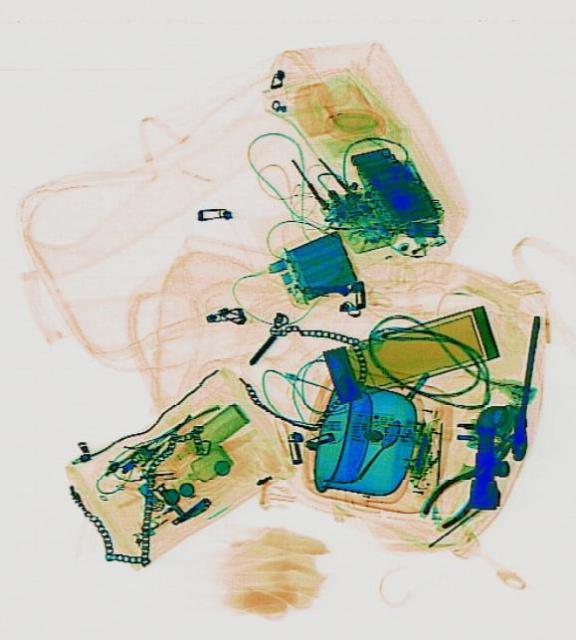Pliers: (412, 418, 529, 534)
